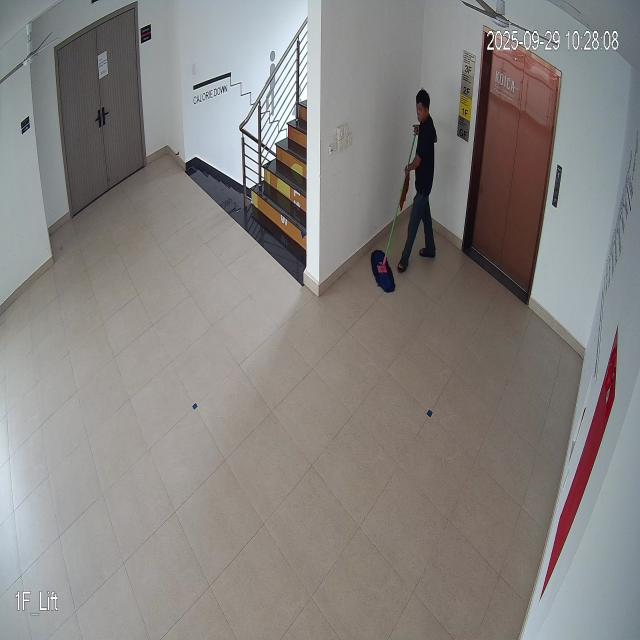face: (413, 84, 432, 128)
